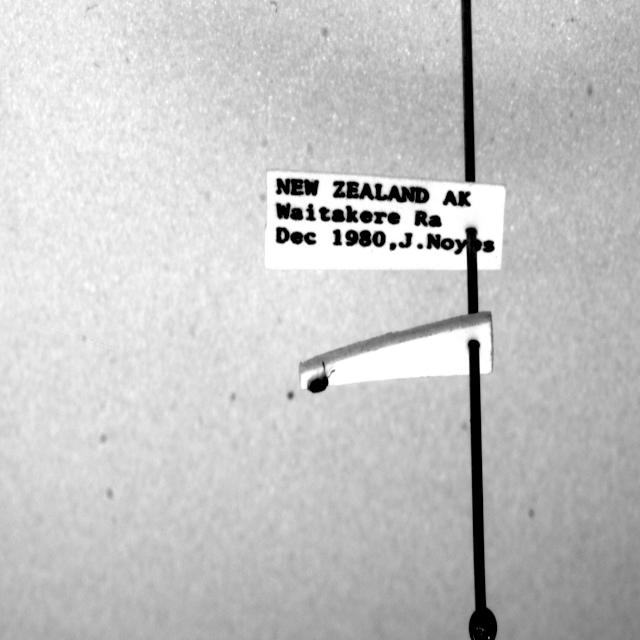typed_label: (265, 171, 505, 270)
